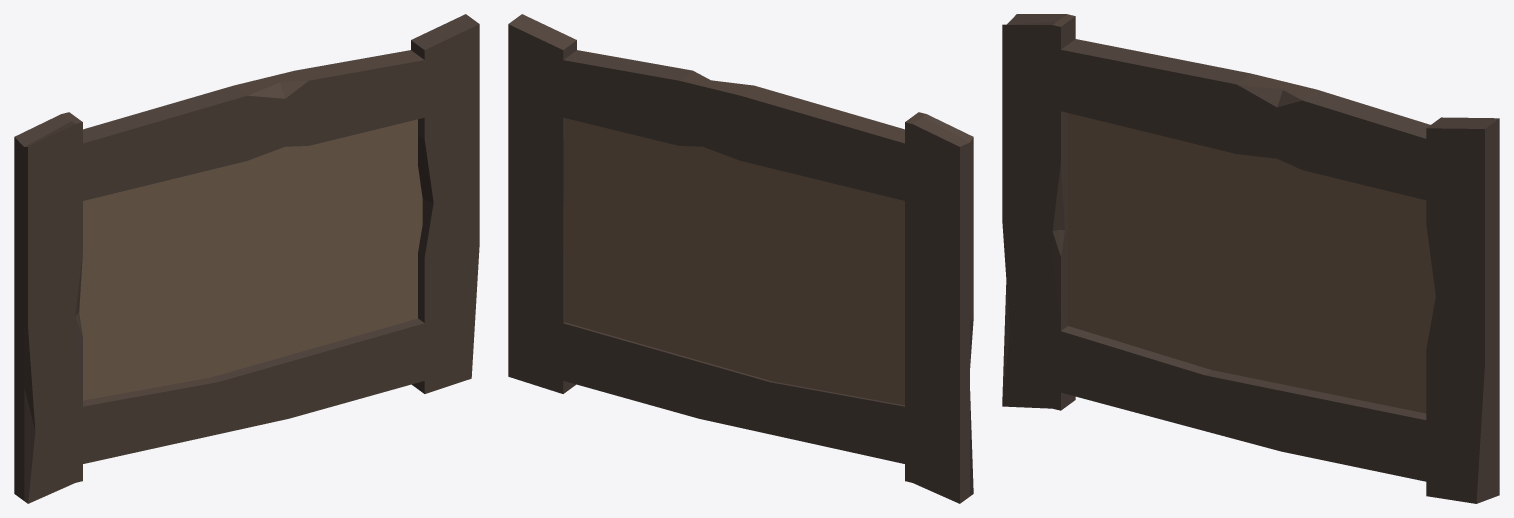
File: Bulletin_board.fbx
3 renders of one model, left to right at view 1: azimuth 30°, elevation 25°; view 2: azimuth 150°, elevation 25°; view 3: azimuth 330°, elevation 25°, orthographic. The views are drawn at different scales.
Visible parts, largest first — view 1: Bulletin_board; view 2: Bulletin_board; view 3: Bulletin_board.
Part boxes in pixels (x1,y1,x2,y2): Bulletin_board: (14, 14, 479, 503); Bulletin_board: (508, 14, 973, 503); Bulletin_board: (1002, 14, 1499, 503).
Bounding box in the file's own units: 213 × 11.28 × 166.
